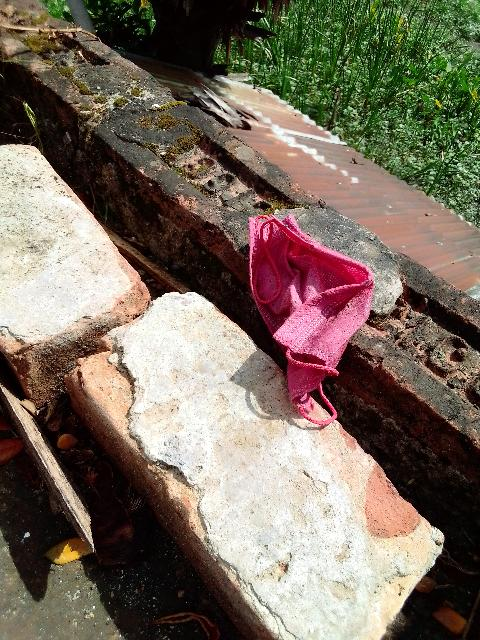mask: (258, 227, 362, 412)
